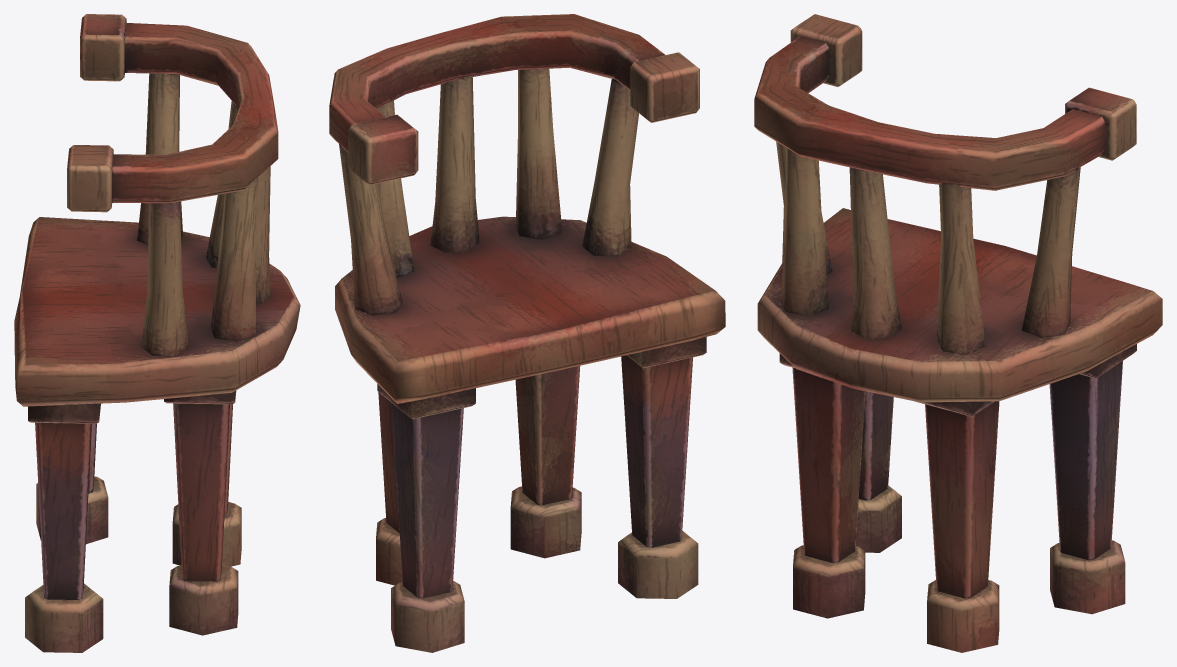
File: Chair.fbx
The picture shows the model from 3 angles, left to right: view 1: azimuth 30°, elevation 25°; view 2: azimuth 150°, elevation 25°; view 3: azimuth 270°, elevation 25°; orthographic projection. The views are drawn at different scales.
Parts seen in each view (by area): view 1: Chair; view 2: Chair; view 3: Chair.
Boxes of the visible parts, box(x1,y1,x2,y2) form: Chair: box(14, 14, 300, 652); Chair: box(329, 14, 725, 652); Chair: box(754, 14, 1162, 652).
Size of the model in its own units: 62.63 by 95.7 by 68.6.
